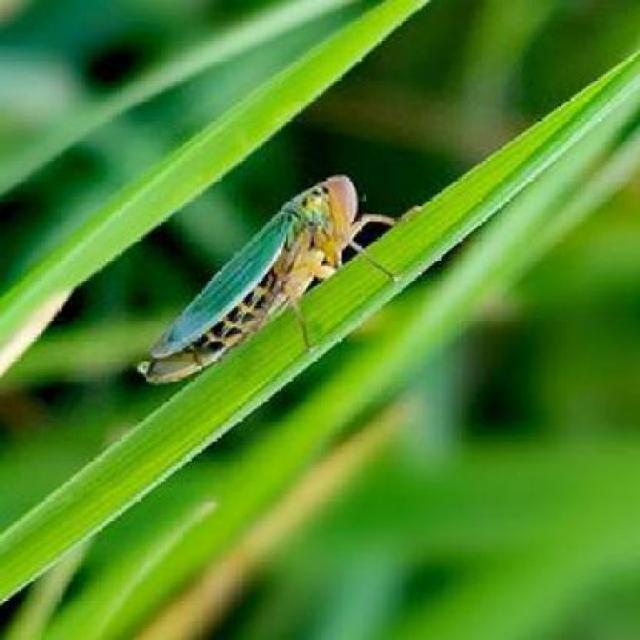green-leafhopper: (136, 171, 422, 389)
